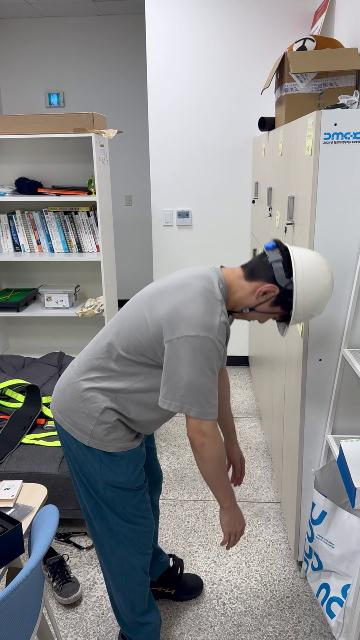helmet_worn: (260, 236, 335, 337)
shoe_not_worn: (41, 548, 83, 605)
shoe_worn: (150, 555, 203, 602), (117, 627, 140, 639)
vest_not_worn: (49, 264, 234, 453)
